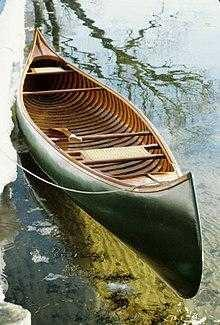kayak: (12, 15, 203, 312)
